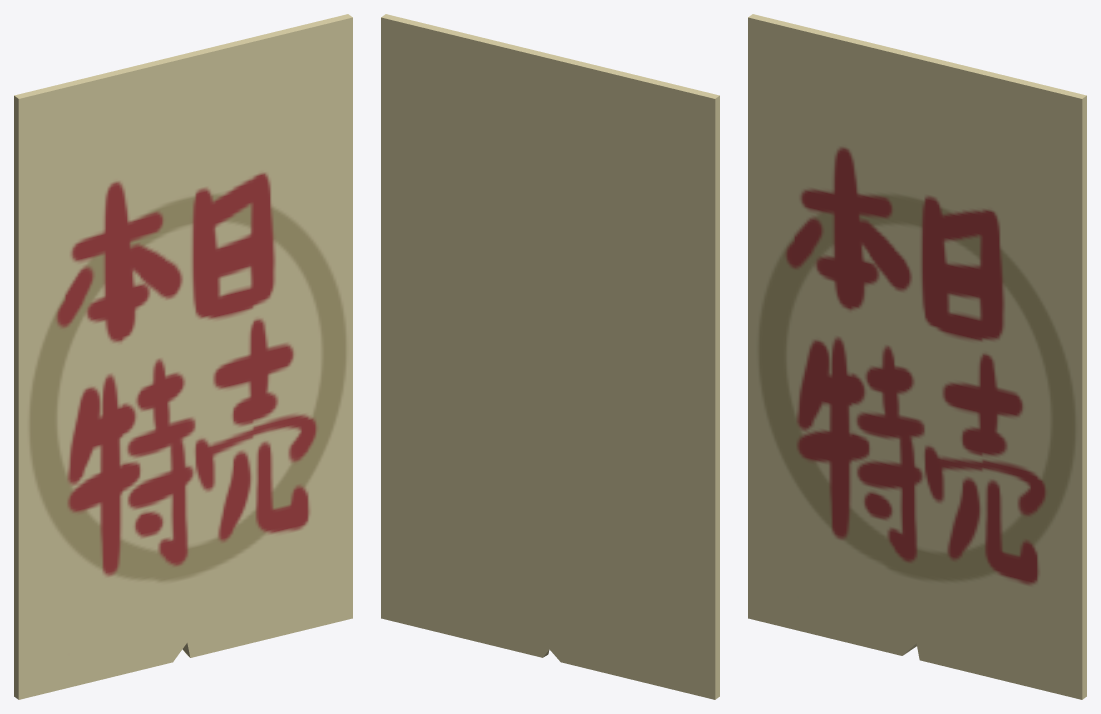
The model's file is Poster_SaleToday.gltf.
3 renders of one model, left to right at view 1: azimuth 30°, elevation 25°; view 2: azimuth 150°, elevation 25°; view 3: azimuth 330°, elevation 25°, orthographic.
Visible parts, largest first — view 1: Poster_SaleToday; view 2: Poster_SaleToday; view 3: Poster_SaleToday.
Part boxes in pixels (x1,y1,x2,y2): Poster_SaleToday: [14, 14, 352, 699]; Poster_SaleToday: [381, 14, 719, 699]; Poster_SaleToday: [748, 14, 1086, 699].
Bounding box in the file's own units: 0.493 × 0.8474 × 0.0121.
1 material, 1 textured.
